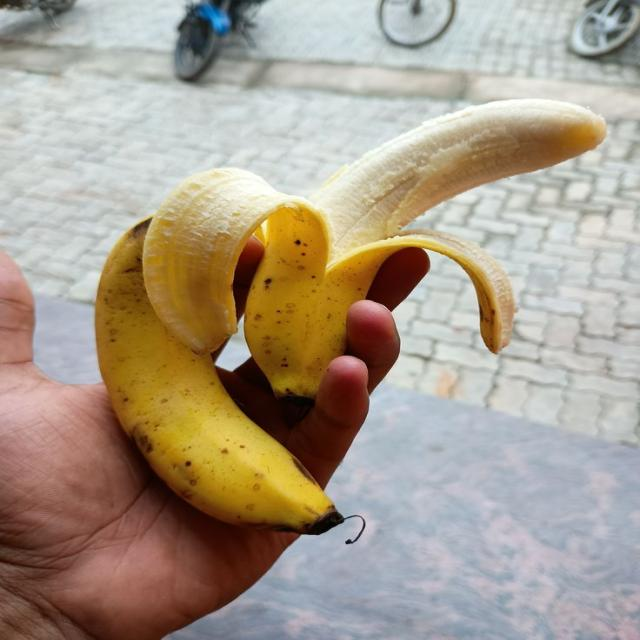banana: (96, 100, 605, 533), (145, 100, 605, 398), (96, 220, 342, 533)
